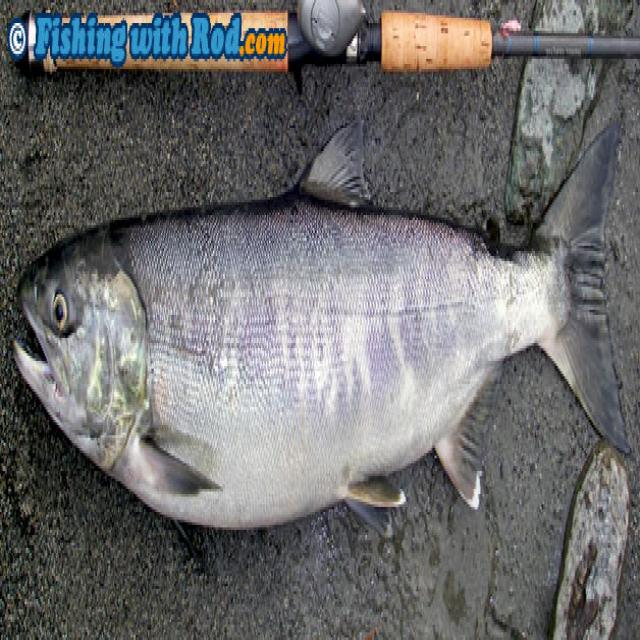salmon: (10, 93, 631, 540)
